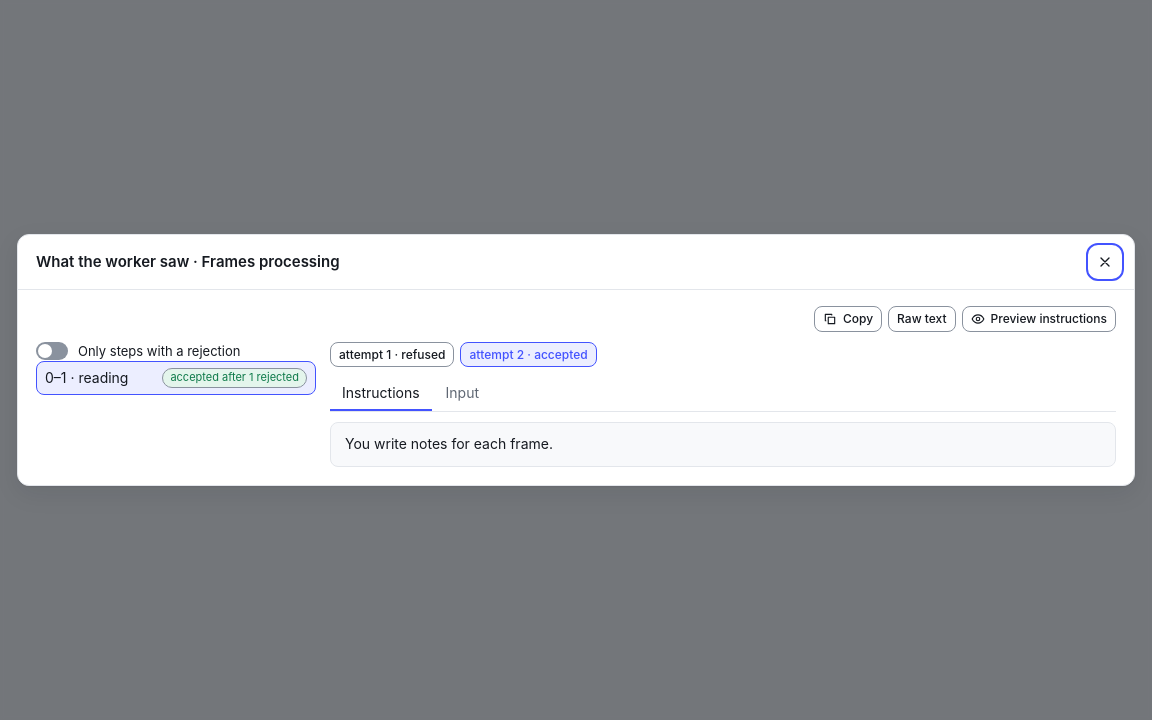
Test case: WorkerView › drops an attempt's load error once another attempt loads
The image size is (1152, 720).
Click the button "attempt 1 · refused" at (392, 354), box [330,342,454,367]
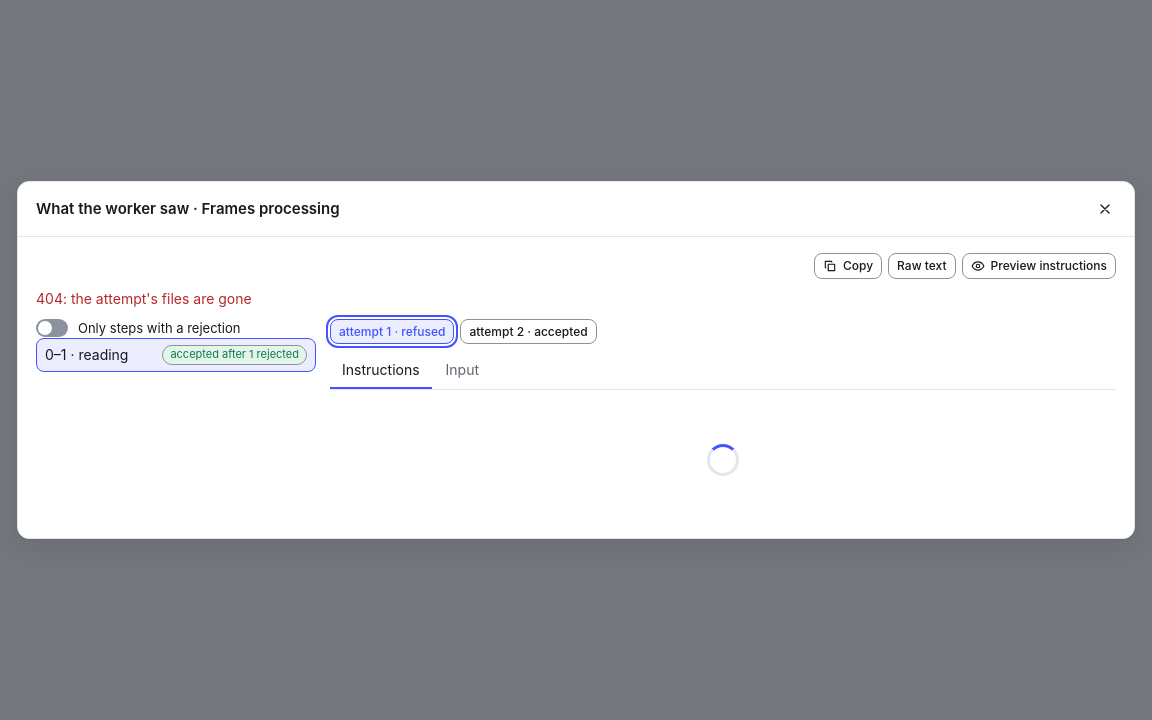
Check: the text "404: the attempt's files are gone" is shown, box [36,290,252,307]
Click the button "attempt 2 · accepted" at (529, 332), box [460,319,597,344]
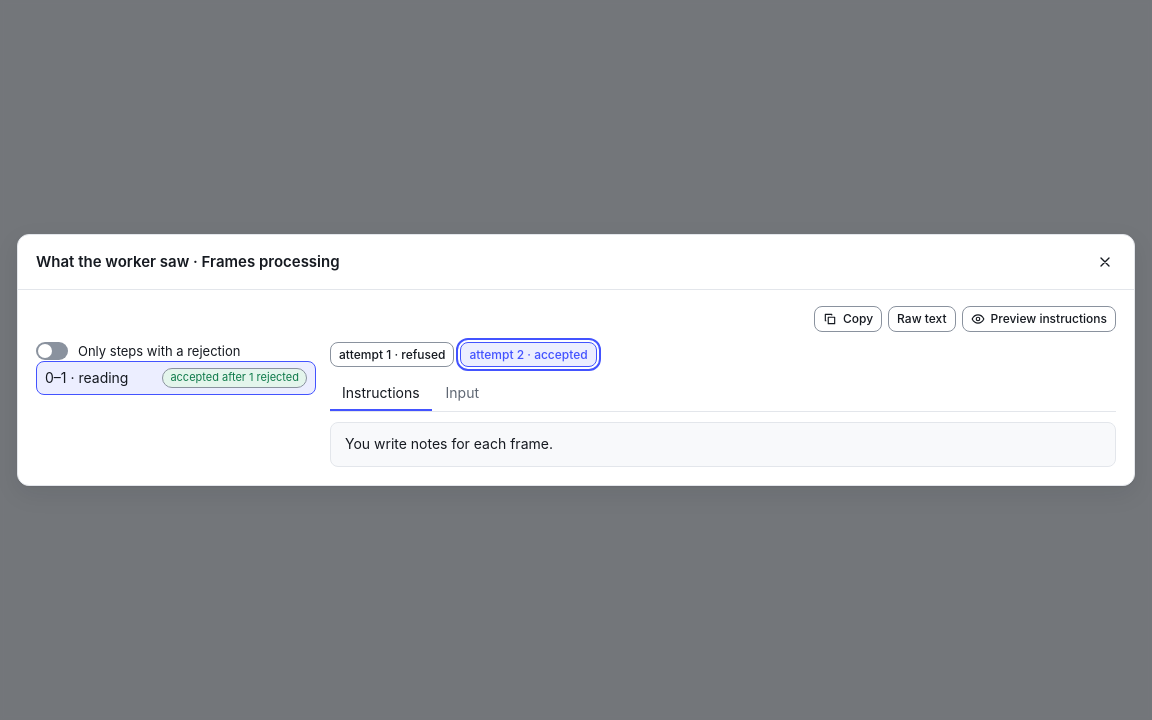
Check: the text "You write notes for each frame." is shown, box [345,435,553,452]
Check: the text "404: the attempt's files are gone" is gone
